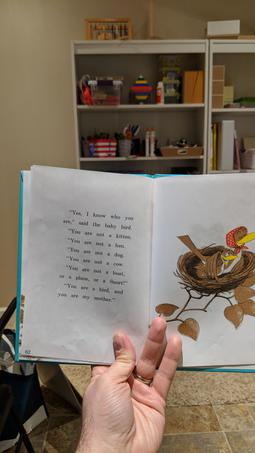text block: (51, 200, 132, 306)
